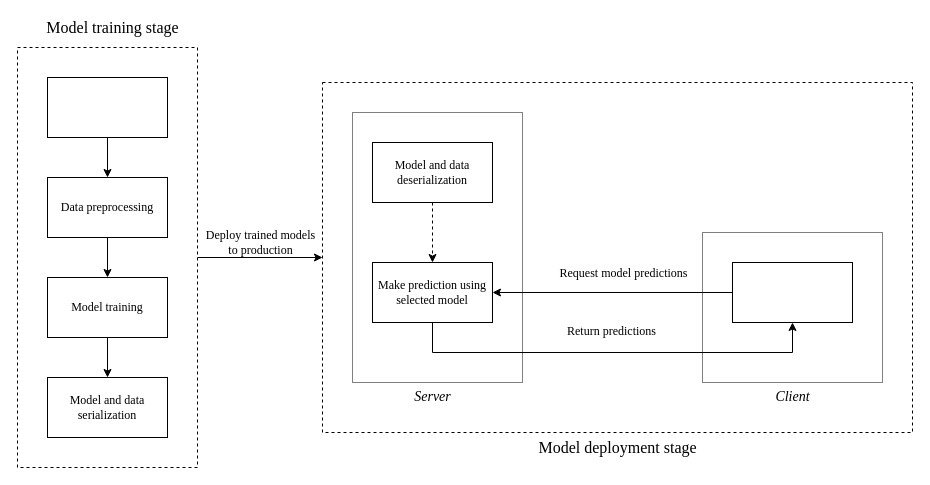
This 930x485 diagram has some shape labels left out. The shapes that lost their labels are listed below. From the top down, each one's centre as x and y in pixels, then its label:
point 107,107: Data loading
point 792,292: Client UI
